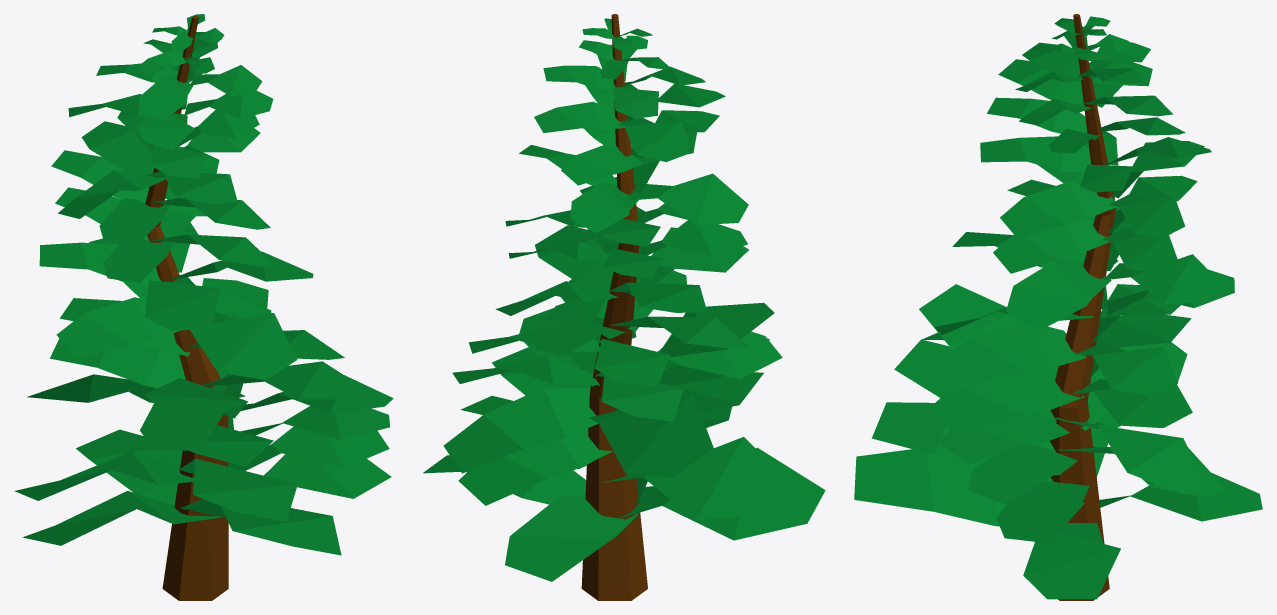
File: Argophloia.glb
The picture shows the model from 3 angles, left to right: view 1: azimuth 30°, elevation 25°; view 2: azimuth 150°, elevation 25°; view 3: azimuth 270°, elevation 25°; orthographic projection.
Visible parts, largest first — view 1: 柱体, 平面.026, 平面.007, 平面.025, 平面.003, 平面.004, 平面.017, 平面, 平面.030, 平面.002, 平面.019, 平面.001 (+33 smaller); view 2: 柱体, 平面.006, 平面.013, 平面.001, 平面.014, 平面.009, 平面.002, 平面.042, 平面.018, 平面.031, 平面.017, 平面.021 (+32 smaller); view 3: 柱体, 平面.003, 平面.019, 平面.023, 平面, 平面.031, 平面.013, 平面.004, 平面.008, 平面.039, 平面.012, 平面.015 (+31 smaller).
Boxes of the visible parts, x1,y1,x2,y2 form: 柱体: [145, 16, 228, 600]; 平面.026: [189, 312, 297, 379]; 平面.007: [179, 458, 297, 521]; 平面.025: [56, 297, 179, 358]; 平面.003: [180, 499, 341, 555]; 平面.004: [228, 426, 389, 470]; 平面.017: [50, 338, 185, 388]; 平面: [264, 454, 391, 498]; 平面.030: [145, 277, 220, 331]; 平面.002: [22, 491, 221, 545]; 平面.019: [202, 361, 371, 399]; 平面.001: [76, 429, 182, 505]; 柱体: [581, 14, 647, 600]; 平面.006: [602, 437, 792, 519]; 平面.013: [443, 387, 598, 473]; 平面.001: [505, 495, 638, 581]; 平面.014: [589, 392, 713, 477]; 平面.009: [458, 428, 612, 505]; 平面.002: [616, 447, 825, 540]; 平面.042: [628, 173, 748, 225]; 平面.018: [657, 331, 782, 379]; 平面.031: [535, 225, 640, 300]; 平面.017: [595, 372, 683, 421]; 平面.021: [594, 338, 670, 386]; 柱体: [1050, 14, 1115, 600]; 平面.003: [854, 449, 1007, 526]; 平面.019: [929, 369, 1084, 435]; 平面.023: [942, 322, 1086, 385]; 平面: [1023, 523, 1120, 599]; 平面.031: [1006, 259, 1111, 331]; 平面.013: [1053, 417, 1207, 493]; 平面.004: [996, 480, 1089, 543]; 平面.008: [968, 444, 1077, 504]; 平面.039: [1000, 181, 1117, 238]; 平面.012: [938, 412, 1069, 464]; 平面.015: [919, 284, 1058, 422].
Size of the model in its own units: 9.34 by 14 by 9.04.
